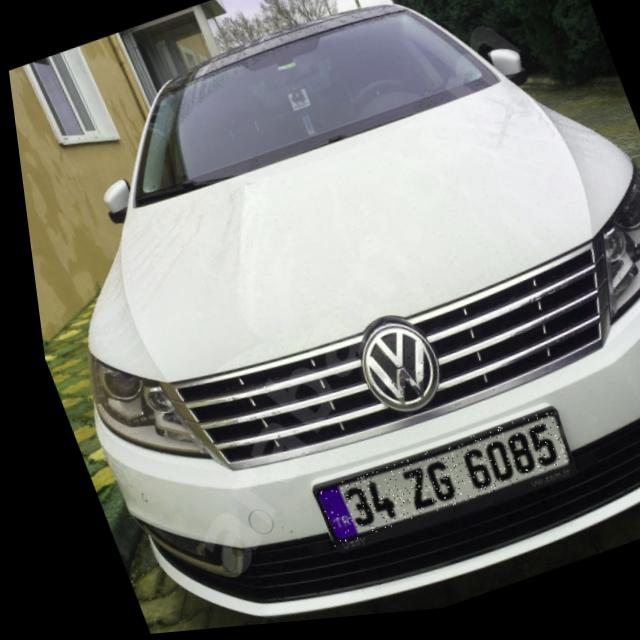license_plate: (294, 416, 566, 552)
